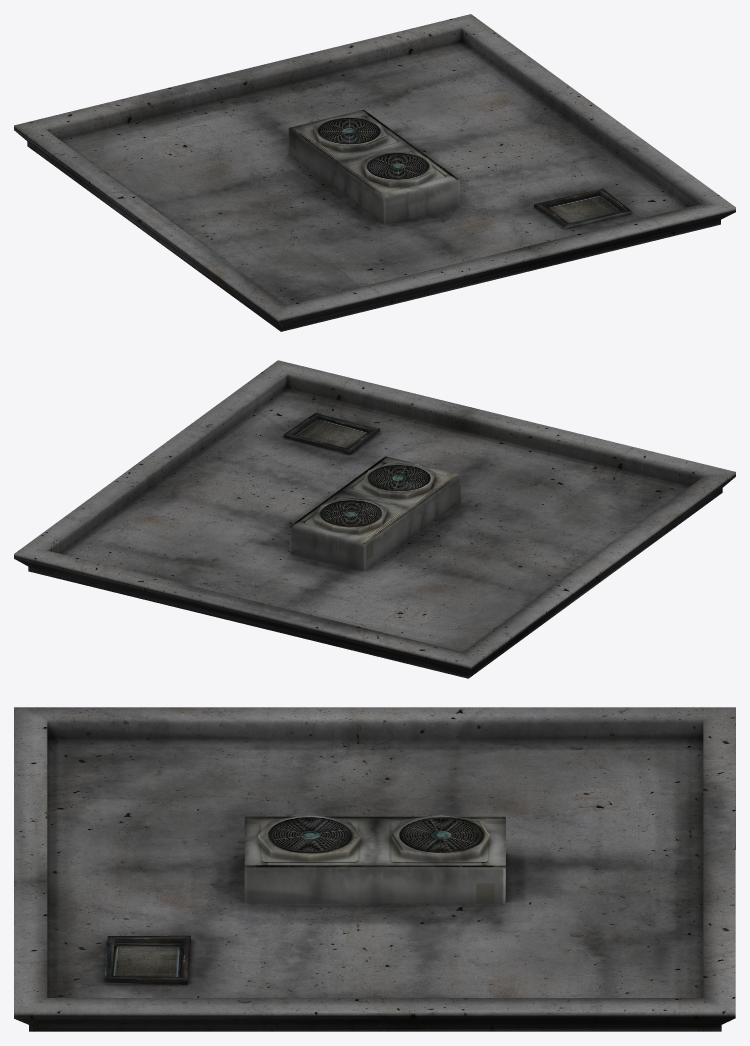
File: Roof 1.fbx
The picture shows the model from 3 angles, top to bottom: view 1: azimuth 30°, elevation 25°; view 2: azimuth 150°, elevation 25°; view 3: azimuth 270°, elevation 25°; orthographic projection. The views are drawn at different scales.
Parts seen in each view (by area): view 1: Cube_002; view 2: Cube_002; view 3: Cube_002.
Boxes of the visible parts, <box> form: Cube_002: <box>14,14,735,331</box>; Cube_002: <box>14,360,735,678</box>; Cube_002: <box>14,707,735,1031</box>.
Size of the model in its own units: 7.85 by 0.5974 by 7.86.
